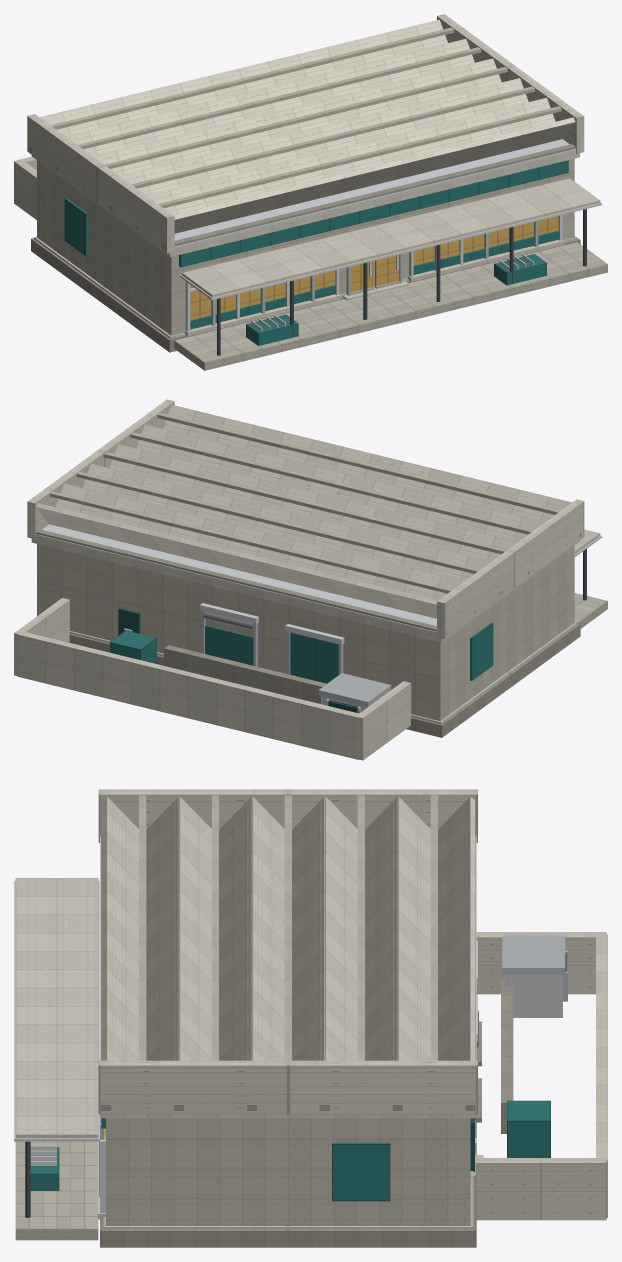
The model's file is civic-atomic-age-supermarket-built.glb.
The picture shows the model from 3 angles, top to bottom: view 1: azimuth 30°, elevation 25°; view 2: azimuth 150°, elevation 25°; view 3: azimuth 270°, elevation 25°; orthographic projection. The views are drawn at different scales.
Bounding box in the file's own units: 26.9 × 8.35 × 24.44.
Materials: 28 (22 with a texture image).
